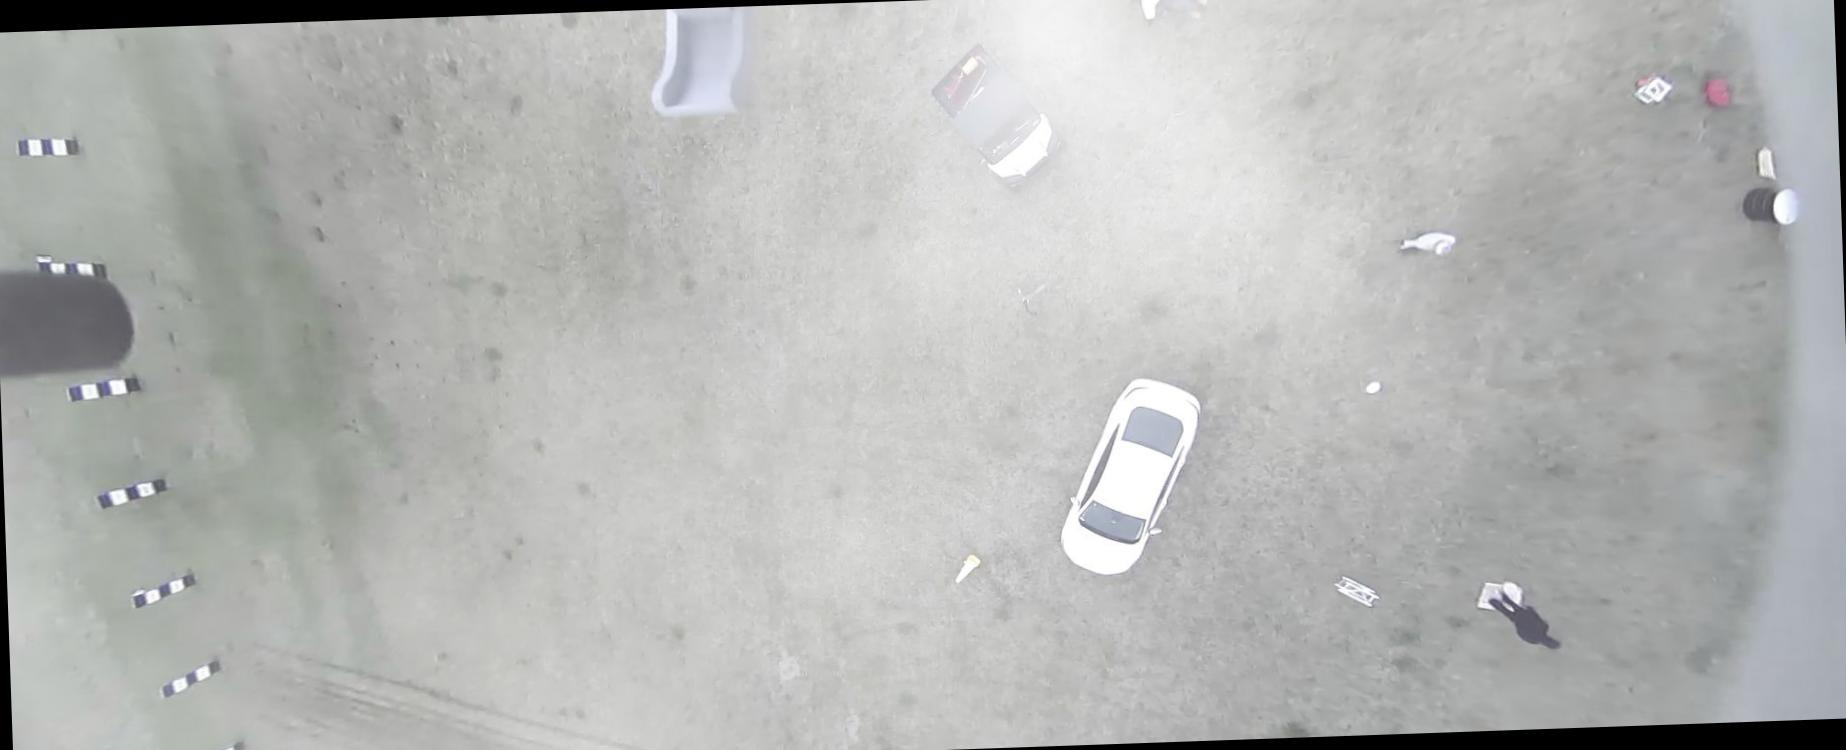vehicle: (1053, 373, 1208, 577), (928, 38, 1069, 195)
